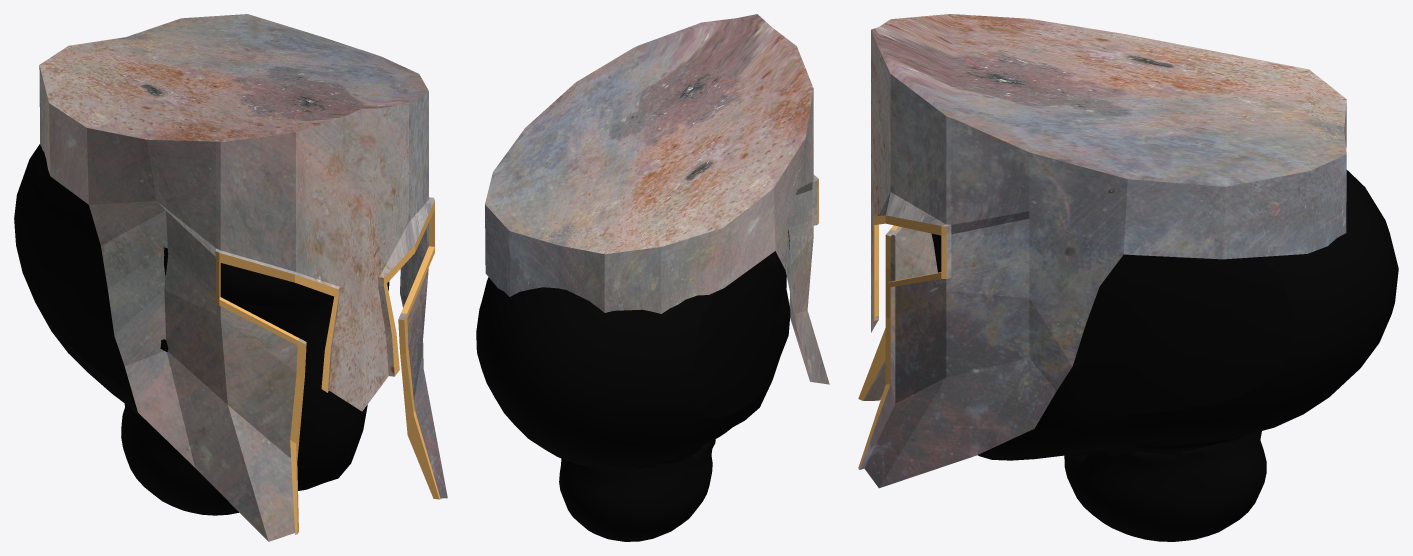
The model's file is helmet_3.glb.
3 renders of one model, left to right at view 1: azimuth 30°, elevation 25°; view 2: azimuth 150°, elevation 25°; view 3: azimuth 270°, elevation 25°, orthographic. The views are drawn at different scales.
Parts seen in each view (by area): view 1: Mask, Helmet_Mask; view 2: Mask, Helmet_Mask; view 3: Mask, Helmet_Mask.
Part boxes in pixels (x1,y1,x2,y2): Mask: (39, 14, 447, 541); Helmet_Mask: (14, 144, 389, 515); Mask: (485, 14, 829, 384); Helmet_Mask: (476, 230, 790, 541); Mask: (858, 14, 1346, 488); Helmet_Mask: (931, 170, 1398, 541).
Size of the model in its own units: 1.29 by 2.11 by 2.05.
4 materials, 1 textured.
